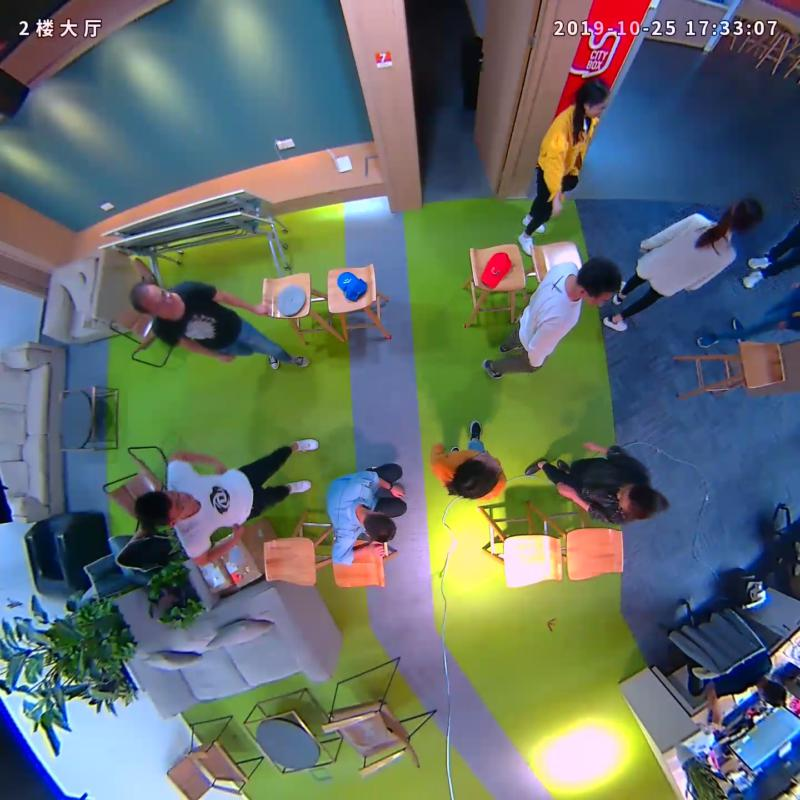head: (126, 481, 205, 536), (566, 69, 626, 125), (711, 194, 770, 248), (565, 253, 625, 306), (447, 451, 503, 506), (610, 479, 671, 529), (125, 277, 183, 326), (349, 506, 404, 552)
